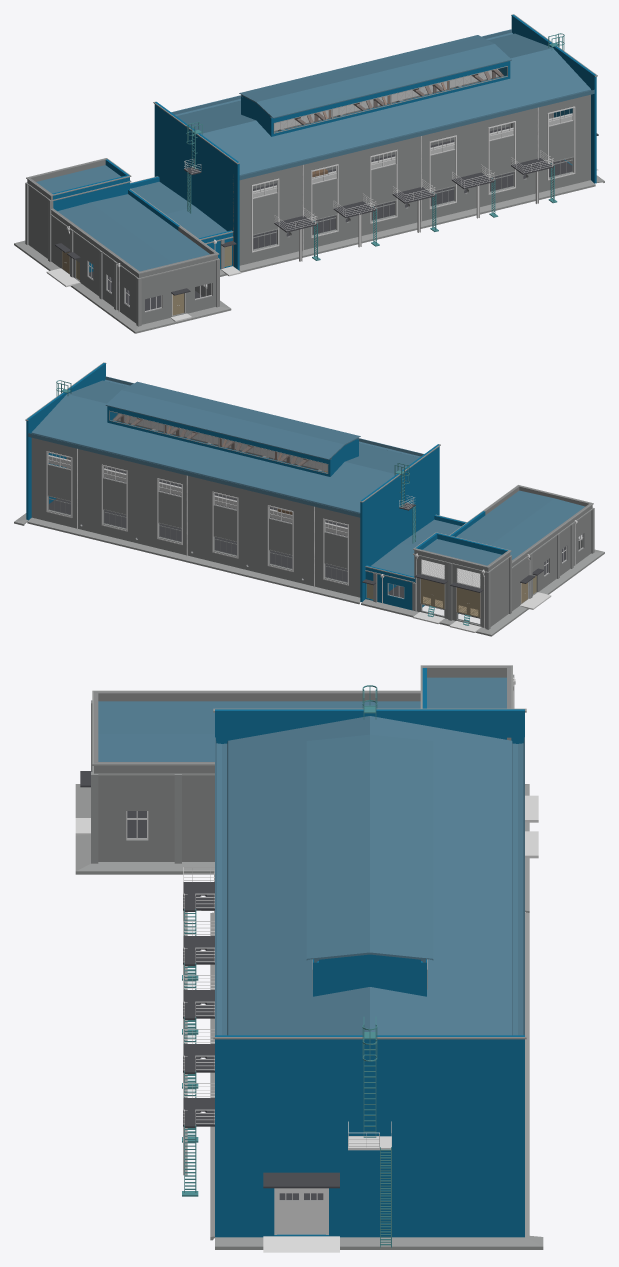
Rendered from jiya.glb.
3 renders of one model, top to bottom at view 1: azimuth 30°, elevation 25°; view 2: azimuth 150°, elevation 25°; view 3: azimuth 270°, elevation 25°, orthographic. The views are drawn at different scales.
Parts seen in each view (by area): view 1: IfcWall/基本墙:外砖墙240:1675982, IfcRoof/基本屋顶:常规 - 125mm:1705492, IfcRoof/基本屋顶:常规 - 125mm:1706025, IfcWallStandardCase/基本墙:砖墙240mm:1676297, IfcBuildingElementProxy/墙饰条:室外散水:1714929, IfcWallStandardCase/基本墙:外砖墙240:1675045, IfcWallStandardCase/基本墙:外砖墙240:1675531, IfcSlab/基本屋顶:常规 - 125mm:1704474.001, IfcFlowSegment/檐沟:檐槽:1715200, IfcSlab/基本屋顶:常规 - 125mm:1704474, IfcWallStandardCase/基本墙:砖墙240mm:1705158, IfcSlab/楼板:常规 240 - 50+70+120:1684422 (+19 smaller); view 2: IfcWallStandardCase/基本墙:外砖墙240:1699860, IfcRoof/基本屋顶:常规 - 125mm:1705492, IfcRoof/基本屋顶:常规 - 125mm:1706025, IfcWallStandardCase/基本墙:砖墙240mm:1676297, IfcBuildingElementProxy/墙饰条:室外散水:1714929, IfcWallStandardCase/基本墙:外砖墙240:1675045, IfcFlowSegment/檐沟:檐槽:1715200, IfcSlab/基本屋顶:常规 - 125mm:1704474.001, IfcSlab/楼板:常规 240 - 50+70+120:1684422, IfcSlab/基本屋顶:常规 - 125mm:1704474, IfcWallStandardCase/基本墙:砖墙240mm:1705222, IfcWall/基本墙:外砖墙240:1675122 (+25 smaller); view 3: IfcWallStandardCase/基本墙:砖墙240mm:1675823, IfcRoof/基本屋顶:常规 - 125mm:1705492, IfcRoof/基本屋顶:常规 - 125mm:1706025, IfcWall/基本墙:外砖墙240:1675576, IfcBuildingElementProxy/墙饰条:室外散水:1714929, IfcFlowSegment/檐沟:檐槽:1715200, IfcWallStandardCase/基本墙:砖墙240mm:1676297, IfcSlab/基本屋顶:常规 - 125mm:1704474, IfcWallStandardCase/基本墙:砖墙240mm:1705441, IfcWallStandardCase/基本墙:外砖墙240:1675045, IfcSlab/基本屋顶:常规 - 125mm:1704474.001, IfcFlowSegment/檐沟:通风楼:1708381 (+15 smaller).
Part boxes in pixels (x1,y1,x2,y2): IfcWall/基本墙:外砖墙240:1675982: (233,94,590,266); IfcRoof/基本屋顶:常规 - 125mm:1705492: (177,33,590,174); IfcRoof/基本屋顶:常规 - 125mm:1706025: (243,36,507,115); IfcWallStandardCase/基本墙:砖墙240mm:1676297: (154,102,239,239); IfcBuildingElementProxy/墙饰条:室外散水:1714929: (14,175,604,333); IfcWallStandardCase/基本墙:外砖墙240:1675045: (51,208,140,323); IfcWallStandardCase/基本墙:外砖墙240:1675531: (140,253,217,324); IfcSlab/基本屋顶:常规 - 125mm:1704474.001: (91,194,209,262); IfcFlowSegment/檐沟:檐槽:1715200: (171,29,594,180); IfcSlab/基本屋顶:常规 - 125mm:1704474: (57,202,173,271); IfcWallStandardCase/基本墙:砖墙240mm:1705158: (273,61,510,136); IfcSlab/楼板:常规 240 - 50+70+120:1684422: (253,126,572,249); IfcWallStandardCase/基本墙:外砖墙240:1699860: (31,437,360,597); IfcRoof/基本屋顶:常规 - 125mm:1705492: (32,380,418,512); IfcRoof/基本屋顶:常规 - 125mm:1706025: (109,383,357,456); IfcWallStandardCase/基本墙:砖墙240mm:1676297: (360,444,439,573); IfcBuildingElementProxy/墙饰条:室外散水:1714929: (14,513,604,636); IfcWallStandardCase/基本墙:外砖墙240:1675045: (512,503,592,611); IfcFlowSegment/檐沟:檐槽:1715200: (28,376,423,517); IfcSlab/基本屋顶:常规 - 125mm:1704474.001: (456,490,553,545); IfcSlab/楼板:常规 240 - 50+70+120:1684422: (49,467,347,582); IfcSlab/基本屋顶:常规 - 125mm:1704474: (490,498,585,559); IfcWallStandardCase/基本墙:砖墙240mm:1705222: (109,406,328,476); IfcWall/基本墙:外砖墙240:1675122: (414,548,486,628); IfcWallStandardCase/基本墙:砖墙240mm:1675823: (215,1035,524,1237); IfcRoof/基本屋顶:常规 - 125mm:1705492: (228,716,511,1035); IfcRoof/基本屋顶:常规 - 125mm:1706025: (319,734,420,959); IfcWall/基本墙:外砖墙240:1675576: (98,762,214,861); IfcBuildingElementProxy/墙饰条:室外散水:1714929: (75,784,543,1249); IfcFlowSegment/檐沟:檐槽:1715200: (215,737,524,1035); IfcWallStandardCase/基本墙:砖墙240mm:1676297: (215,709,524,743); IfcSlab/基本屋顶:常规 - 125mm:1704474: (98,701,420,733); IfcWallStandardCase/基本墙:砖墙240mm:1705441: (317,954,426,996); IfcWallStandardCase/基本墙:外砖墙240:1675045: (94,691,420,701); IfcSlab/基本屋顶:常规 - 125mm:1704474.001: (98,734,214,761); IfcFlowSegment/檐沟:通风楼:1708381: (420,740,433,962).
Size of the model in its own units: 61.48 by 14.54 by 25.61.
